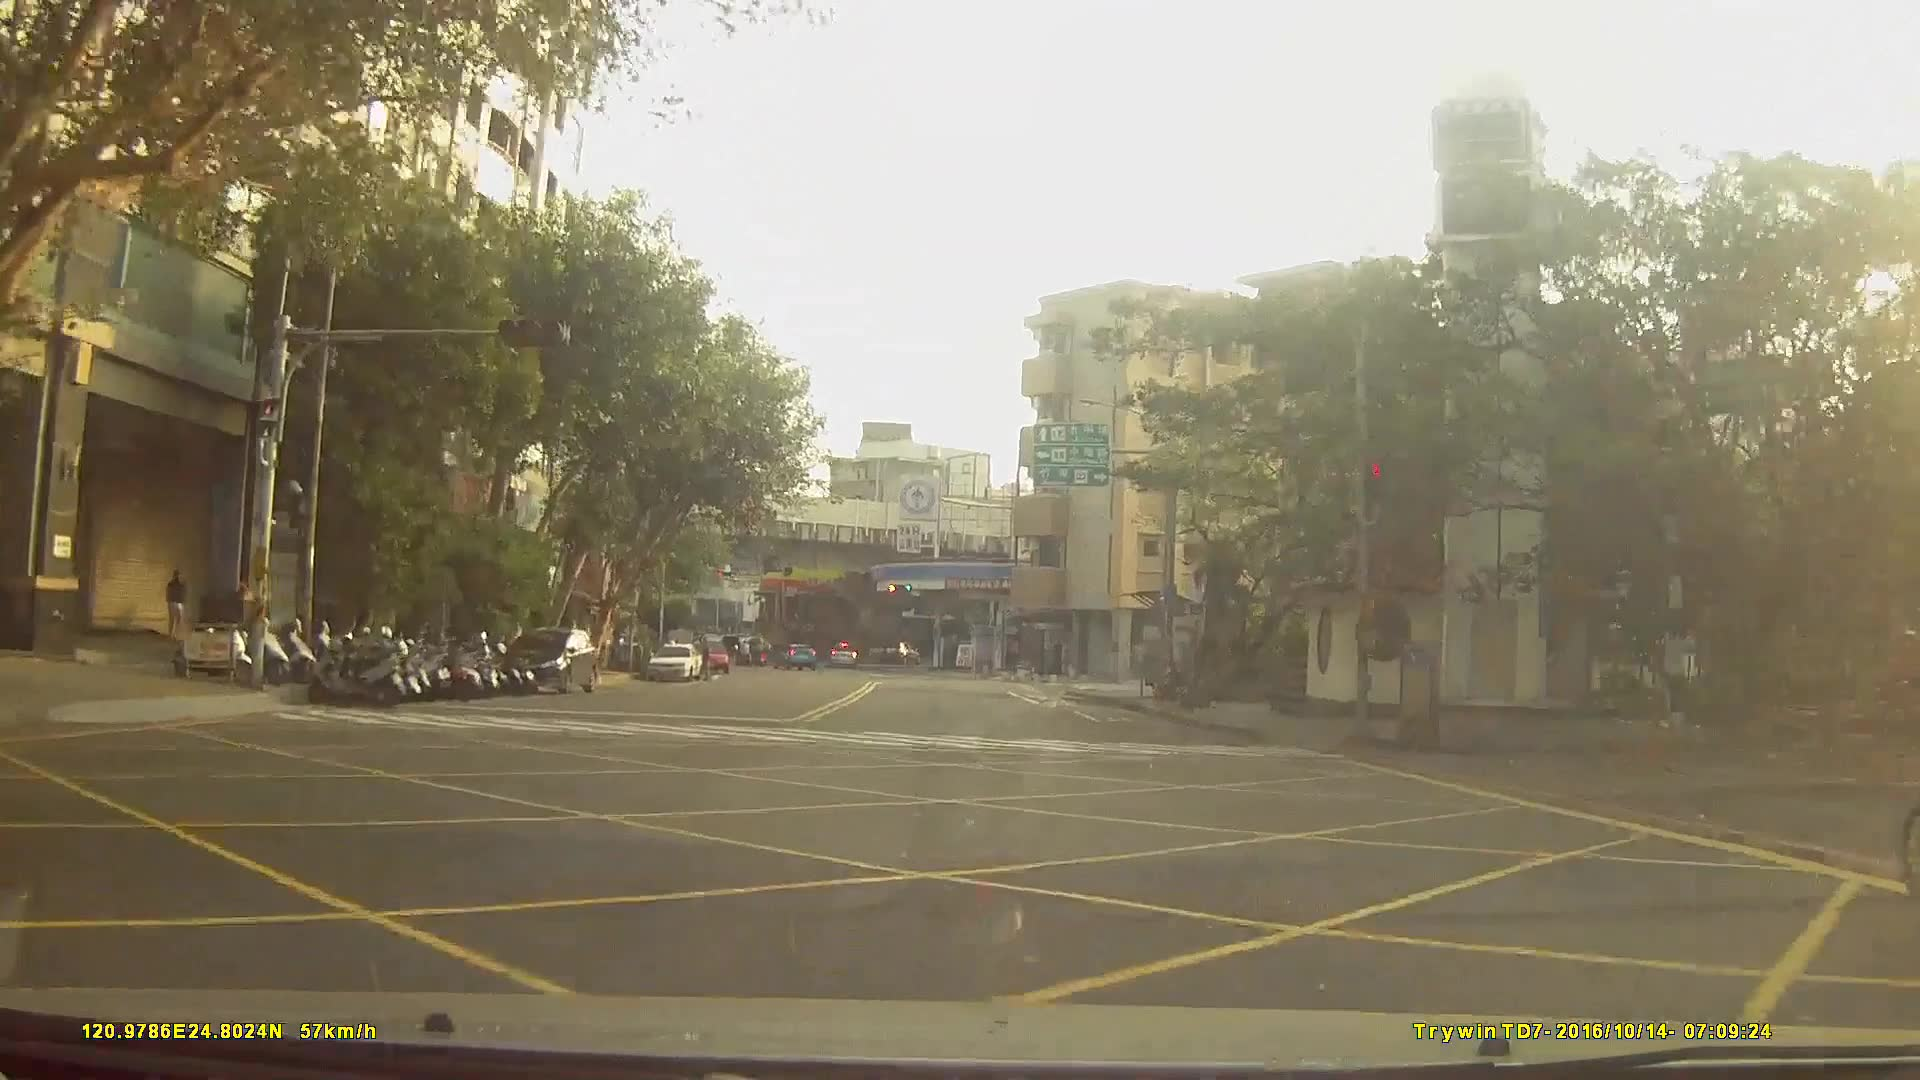pedestrian: (167, 570, 190, 645)
rider: (1901, 571, 1920, 888)
vehicle: (500, 625, 598, 694), (642, 640, 699, 681), (687, 638, 730, 675), (771, 639, 816, 669), (828, 641, 859, 669)
